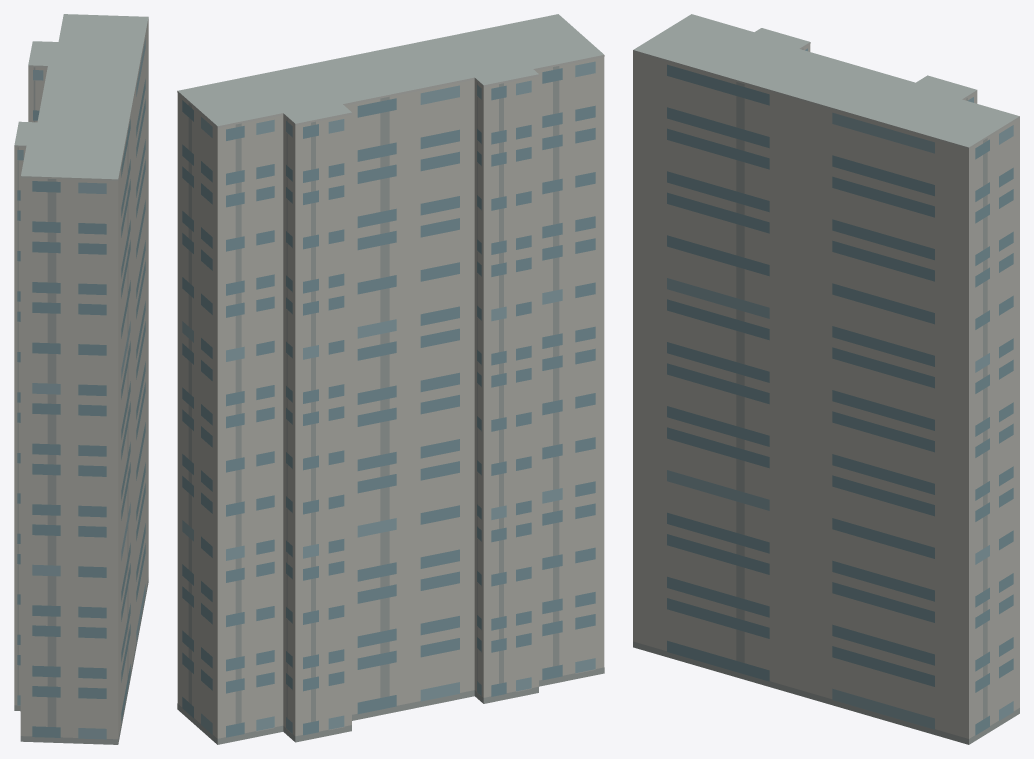
The model's file is residential-7b192960-1f3a-41aa-9a84-55f5575b9158.glb.
3 renders of one model, left to right at view 1: azimuth 30°, elevation 25°; view 2: azimuth 150°, elevation 25°; view 3: azimuth 270°, elevation 25°, orthographic. The views are drawn at different scales.
Parts seen in each view (by area): view 1: residential-7b192960-1f3a-41aa-9a84-55f5575b9158.tmp; view 2: residential-7b192960-1f3a-41aa-9a84-55f5575b9158.tmp; view 3: residential-7b192960-1f3a-41aa-9a84-55f5575b9158.tmp.
Boxes of the visible parts, box(x1,y1,x2,y2) form: residential-7b192960-1f3a-41aa-9a84-55f5575b9158.tmp: box(14, 14, 148, 744); residential-7b192960-1f3a-41aa-9a84-55f5575b9158.tmp: box(177, 14, 604, 744); residential-7b192960-1f3a-41aa-9a84-55f5575b9158.tmp: box(633, 14, 1019, 744).
Size of the model in its own units: 37.4 by 78 by 45.77.
